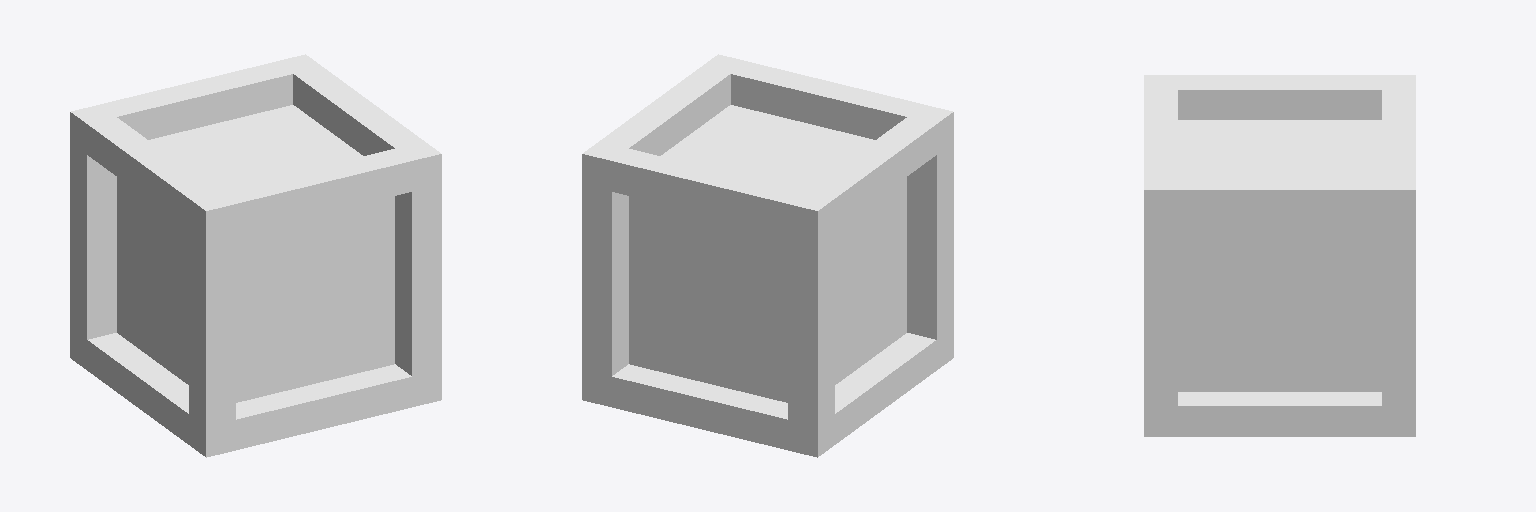
Rendered from cable.obj.
3 views of the same model, side by side, from view 1: azimuth 30°, elevation 25°; view 2: azimuth 150°, elevation 25°; view 3: azimuth 270°, elevation 25° (orthographic).
Size of the model in its own units: 8 by 8 by 8.